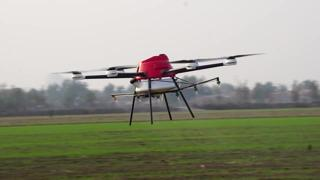UAV: (283, 143, 320, 180)
